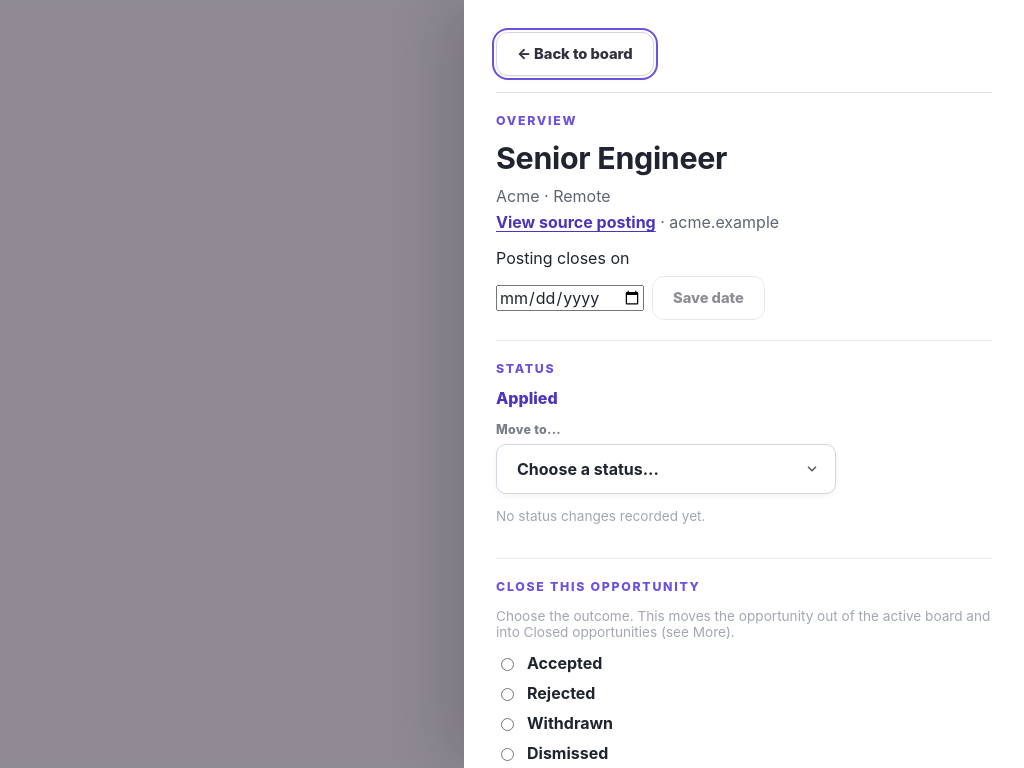
Test: OpportunityDetail › saves and clears a closing date on any status and refreshes the board
Type "2026-10-05" into the date field labelled "Posting closes on" at (570, 298), box [496,286,644,312]
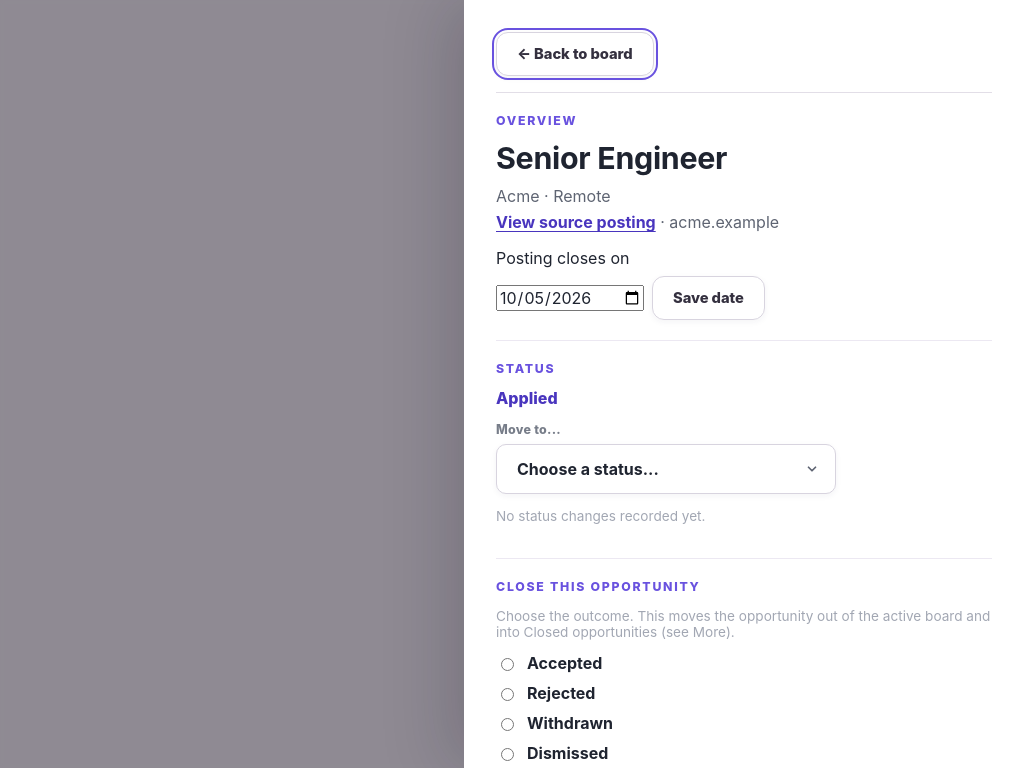
Click the button "Save date" at (708, 298), box [652,276,765,320]
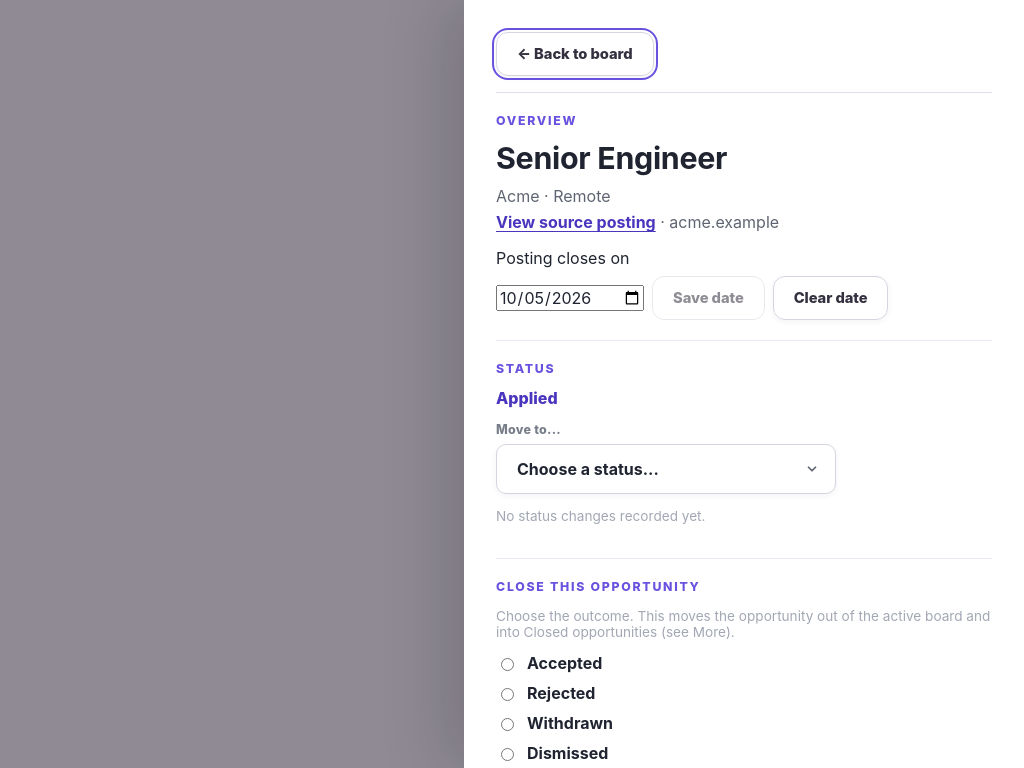
Click the button "Clear date" at (831, 298), box [773,276,888,320]
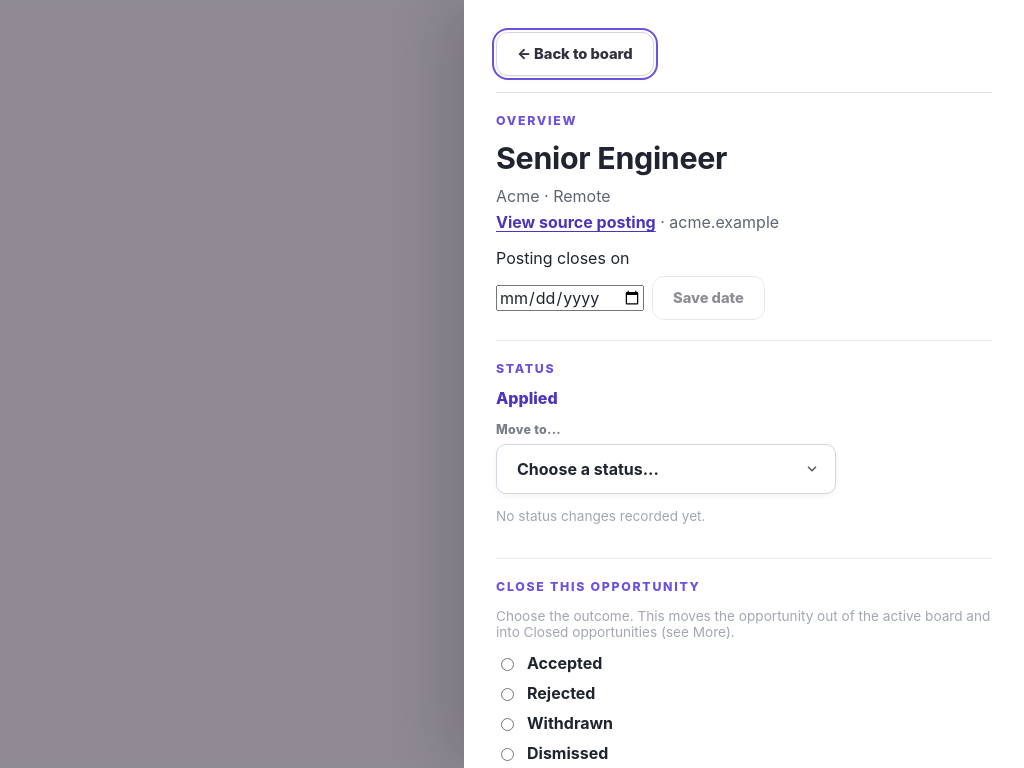
Now the date field labelled "Posting closes on" is empty, box [496,286,644,312]
